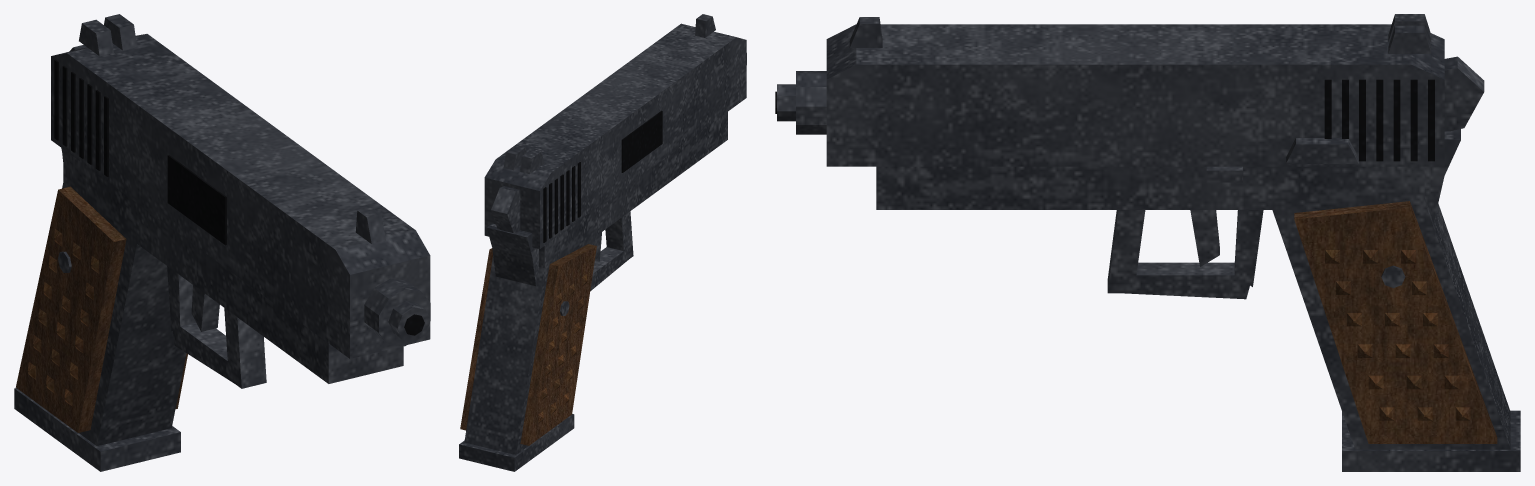
File: pistol_old_a.glb
3 renders of one model, left to right at view 1: azimuth 30°, elevation 25°; view 2: azimuth 150°, elevation 25°; view 3: azimuth 270°, elevation 25°, orthographic. The views are drawn at different scales.
Parts seen in each view (by area): view 1: pistol_old_a; view 2: pistol_old_a; view 3: pistol_old_a.
Part boxes in pixels (x1,y1,x2,y2): pistol_old_a: (14,14,430,471); pistol_old_a: (459,14,746,471); pistol_old_a: (775,14,1520,471).
Bounding box in the file's own units: 0.039 × 0.144 × 0.2255.
Materials: 2 (2 with a texture image).
